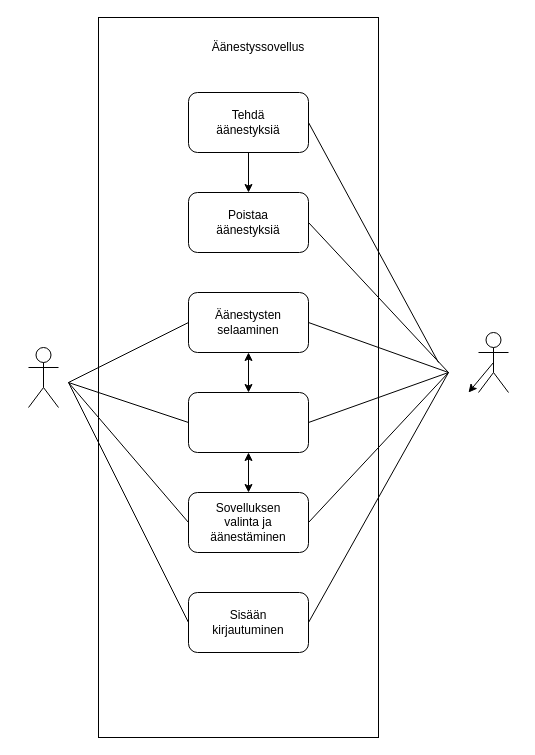
This 535x755 diagram has some shape labels left out. The box of each missing label's shape, as (x1, y1, x2, y2) in pixels:
Ylläpitäjä: (478, 332, 508, 392)
Äänestyksen valinta ja äänestystilanteen katsominen: (188, 392, 308, 452)
äänestäjä: (28, 346, 58, 408)
